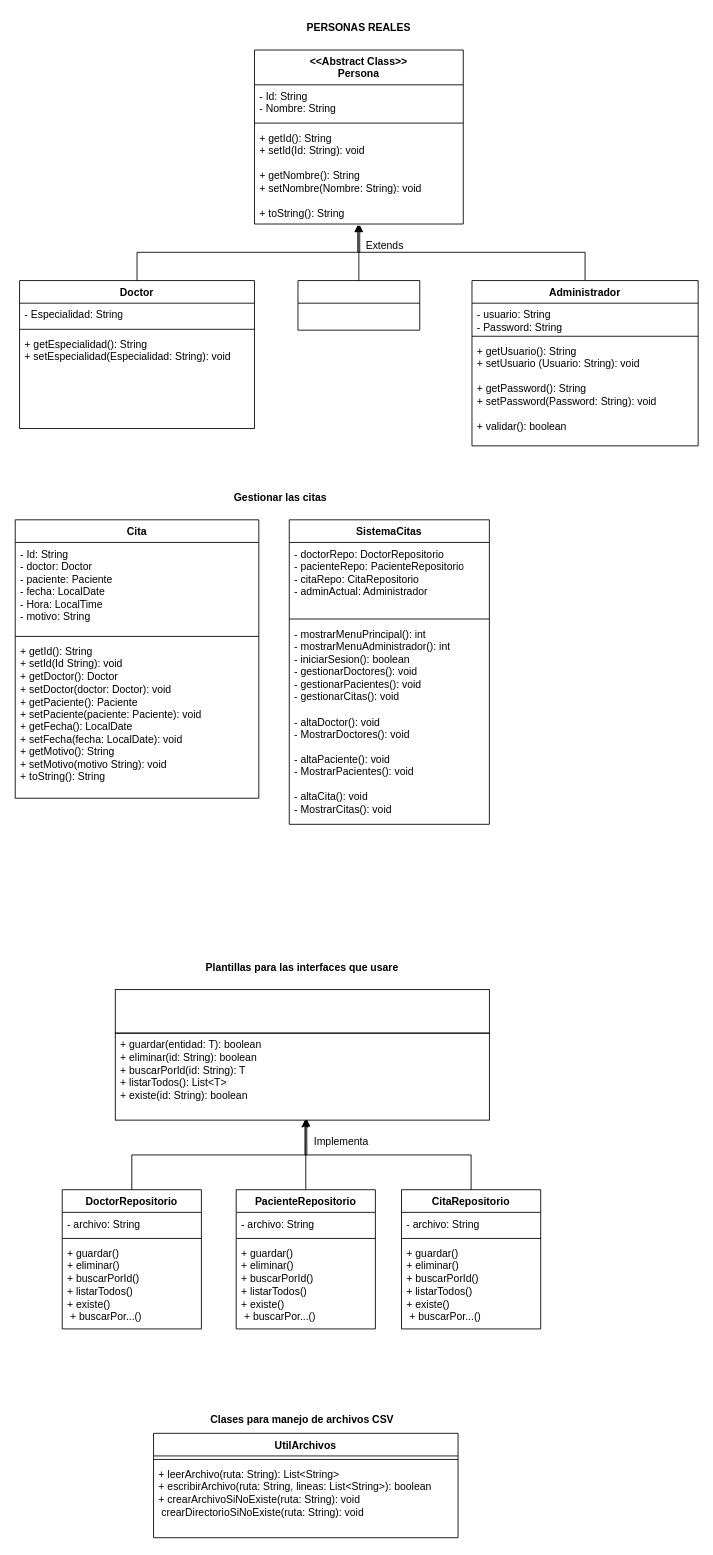
The diagram is 713 pixels wide and 1555 high, and some of its shapes have lost their labels. The shapes that lost their labels are listed below. From the top down, each one's centre as x and y in pixels, then its label:
At (x=358, y=305): "Paciente".
At (x=301, y=1011): "«interface» InterfaceRepositorio <T>".
